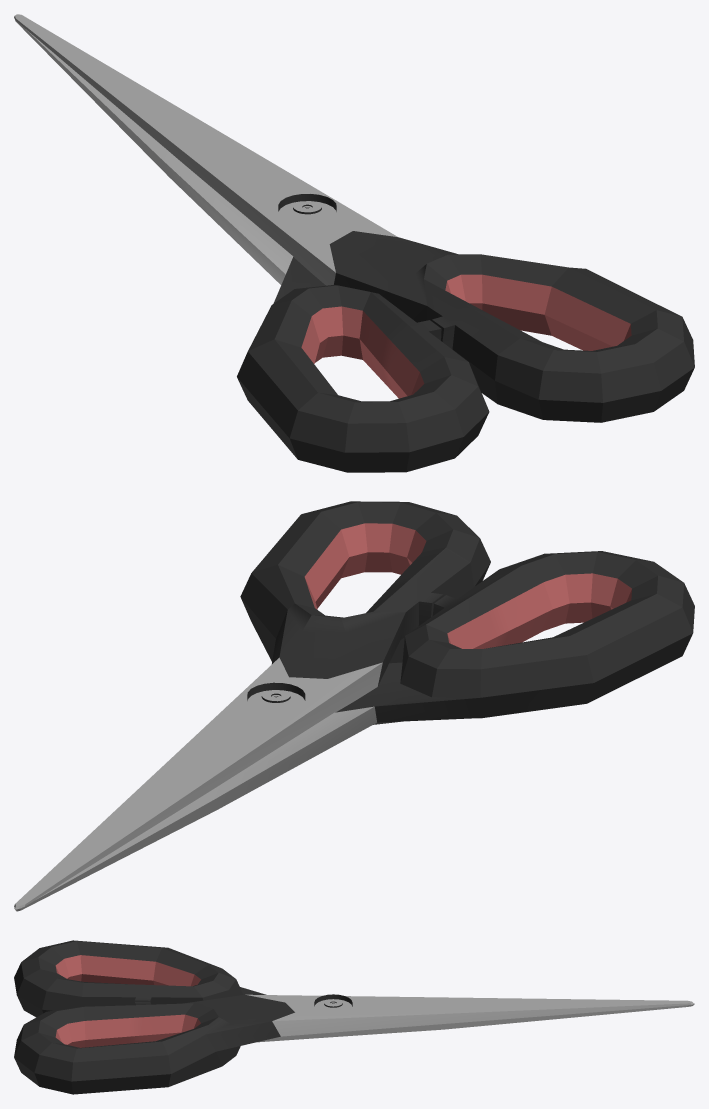
File: uploads_files_2713238_CookingShears.fbx
3 renders of one model, top to bottom at view 1: azimuth 30°, elevation 25°; view 2: azimuth 150°, elevation 25°; view 3: azimuth 270°, elevation 25°, orthographic. The views are drawn at different scales.
Visible parts, largest first — view 1: pCylinder2; view 2: pCylinder2; view 3: pCylinder2.
Boxes of the visible parts, x1,y1,x2,y2 form: pCylinder2: (14, 14, 694, 472); pCylinder2: (14, 501, 694, 911); pCylinder2: (14, 940, 694, 1094).
Size of the model in its own units: 6.07 by 1 by 13.62.
